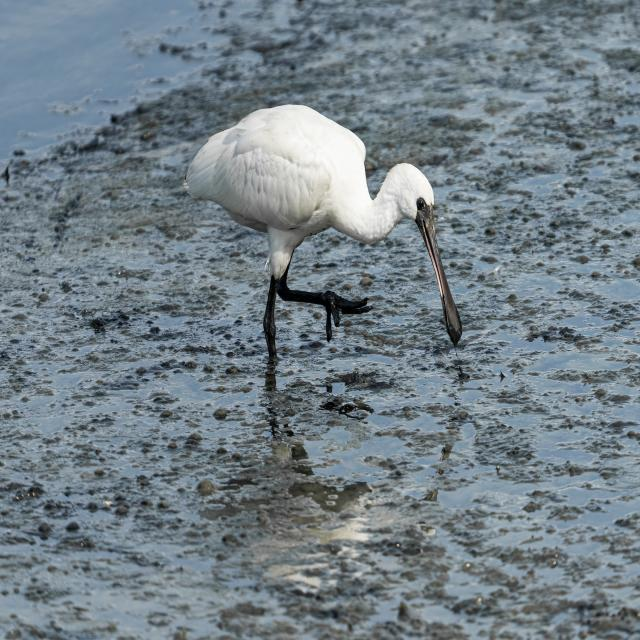Black-faced spoonbill: (185, 105, 462, 357)
